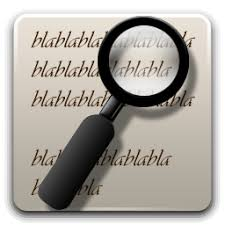searchIcon: (27, 14, 193, 212)
